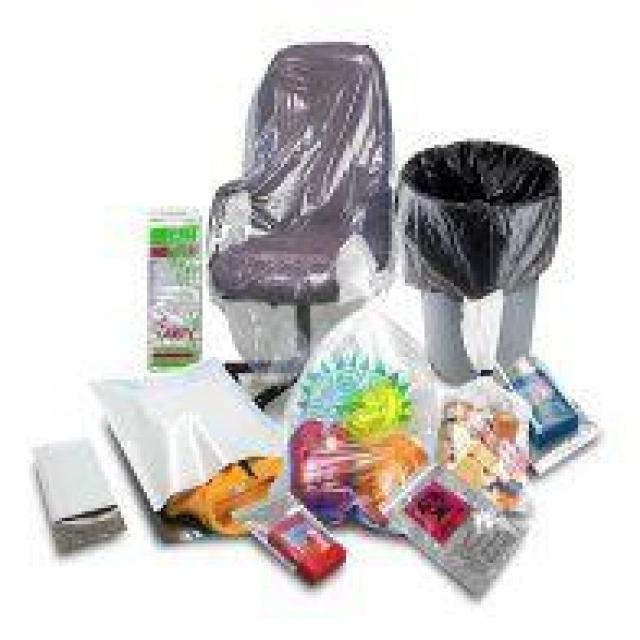others: (191, 27, 436, 384)
plastic_bag: (75, 324, 323, 556), (386, 91, 566, 403), (114, 175, 257, 384), (388, 461, 545, 602), (34, 414, 148, 569)
